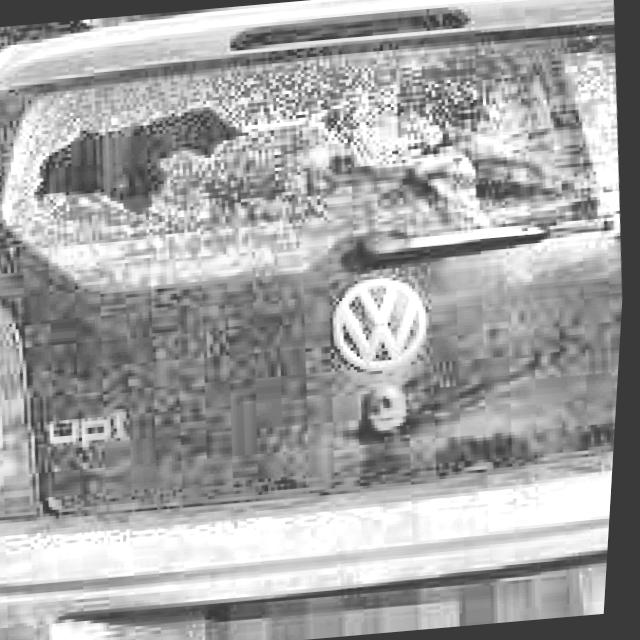glass_shatter: (9, 80, 243, 222)
